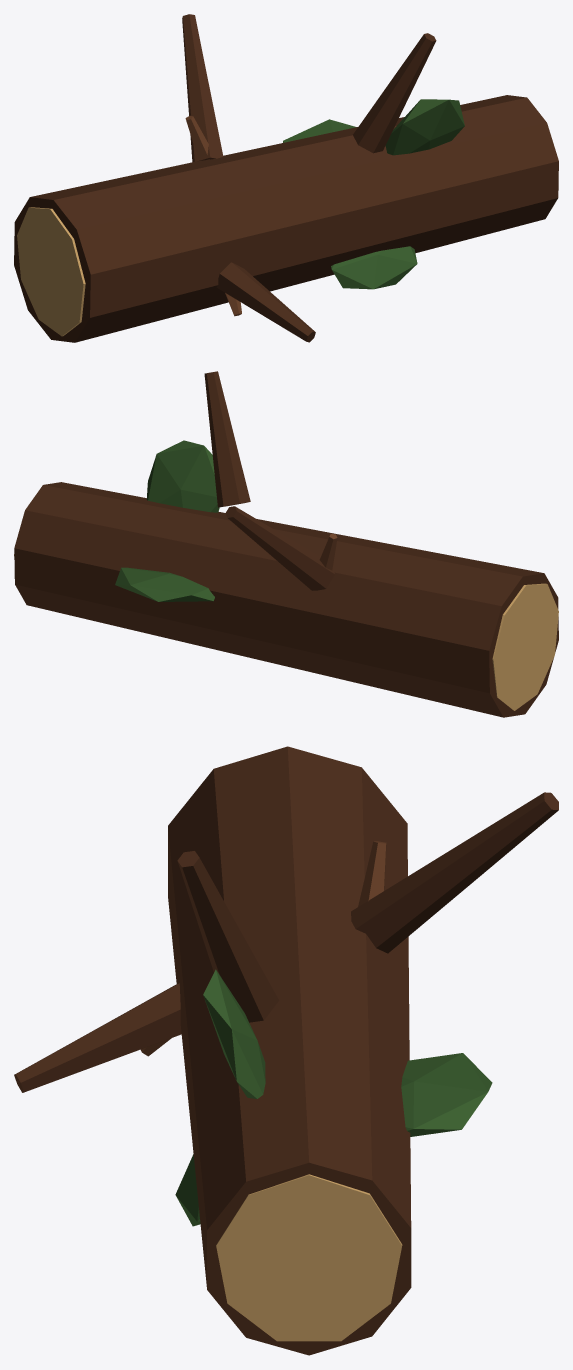
The model's file is fallen_log_a.glb.
3 views of the same model, one above another, from view 1: azimuth 30°, elevation 25°; view 2: azimuth 150°, elevation 25°; view 3: azimuth 270°, elevation 25° (orthographic). The views are drawn at different scales.
Visible parts, largest first — view 1: Log, Cut_A, Branch_2.012, Moss_2, Branch_1.012, Branch_3.012, Moss_3, Moss_1, Twig_1; view 2: Log, Cut_A, Moss_2, Branch_2.012, Branch_1.012, Moss_1; view 3: Log, Cut_B, Branch_1.012, Branch_2.012, Branch_3.012, Moss_1, Moss_2, Twig_1, Moss_3.
Part boxes in pixels (x1=…): Log: x1=14, y1=95, x2=558, y2=342; Cut_A: x1=17, y1=207, x2=85, y2=336; Branch_2.012: x1=353, y1=33, x2=436, y2=153; Moss_2: x1=385, y1=99, x2=464, y2=155; Branch_1.012: x1=182, y1=14, x2=223, y2=162; Branch_3.012: x1=216, y1=262, x2=315, y2=342; Moss_3: x1=331, y1=246, x2=417, y2=289; Moss_1: x1=283, y1=119, x2=356, y2=142; Twig_1: x1=185, y1=115, x2=209, y2=159; Log: x1=14, y1=482, x2=558, y2=717; Cut_A: x1=492, y1=583, x2=558, y2=710; Moss_2: x1=146, y1=440, x2=219, y2=512; Branch_2.012: x1=204, y1=371, x2=250, y2=507; Branch_1.012: x1=225, y1=506, x2=334, y2=590; Moss_1: x1=115, y1=567, x2=214, y2=601; Log: x1=168, y1=746, x2=411, y2=1355; Cut_B: x1=216, y1=1174, x2=402, y2=1341; Branch_1.012: x1=351, y1=792, x2=558, y2=953; Branch_2.012: x1=177, y1=851, x2=278, y2=1022; Branch_3.012: x1=14, y1=983, x2=181, y2=1092; Moss_1: x1=401, y1=1053, x2=492, y2=1136; Moss_2: x1=203, y1=969, x2=265, y2=1098; Twig_1: x1=358, y1=841, x2=386, y2=906; Moss_3: x1=175, y1=1154, x2=200, y2=1226.
Bounding box in the file's own units: 2.77 × 1.33 × 1.64.
